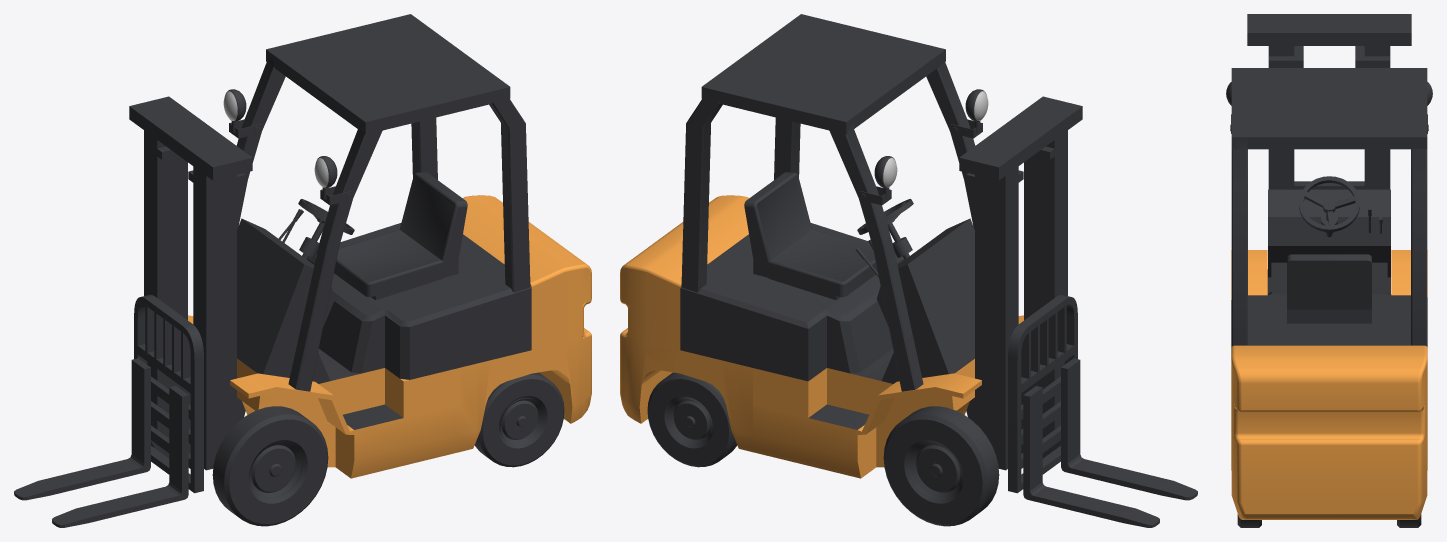
3 renders of one model, left to right at view 1: azimuth 30°, elevation 25°; view 2: azimuth 150°, elevation 25°; view 3: azimuth 270°, elevation 25°, orthographic.
Visible parts, largest first — view 1: Roof, Cube_3_2, Cube_3, Cube_12_2_2, Panel, Tube, Cube_13_2, Cube_4, Cube_12, Tube_2, Cube_6, Sweep (+3 smaller); view 2: Roof, Cube_3_2, Cube_3, Cube_12_2_2, Panel, Tube, Cube_13_2, Cube_4, Cube_12, Tube_2, Cube_6, Sweep (+3 smaller); view 3: Cube_3_2, Roof, Panel, Cube_3, Cube_12, Cube_6, Cube_12_2_2, Tube_3, Cube_4, Cube_13_3, Sweep, Tube_2.
Part boxes in pixels (x1,y1,x2,y2): Roof: (236,14,530,391); Cube_3_2: (188,195,591,478); Cube_3: (307,223,531,379); Cube_12_2_2: (144,130,236,470); Panel: (237,218,334,383); Tube: (151,397,328,526); Cube_13_2: (14,358,188,527); Cube_4: (334,229,458,297); Cube_12: (129,96,252,180); Tube_2: (474,372,564,467); Cube_6: (399,172,467,269); Sweep: (134,294,203,493); Roof: (681,14,975,391); Cube_3_2: (620,195,1023,478); Cube_3: (680,223,904,381); Cube_12_2_2: (975,130,1067,470); Panel: (877,218,974,383); Tube: (883,397,1060,526); Cube_13_2: (1023,358,1197,527); Cube_4: (753,229,877,297); Cube_12: (959,96,1082,180); Tube_2: (647,372,737,467); Cube_6: (744,172,812,269); Sweep: (1008,294,1077,493); Cube_3_2: (1231,250,1427,519); Roof: (1231,68,1427,346); Panel: (1268,189,1390,293); Cube_3: (1231,290,1427,346); Cube_12: (1247,14,1411,45); Cube_6: (1287,254,1371,309); Cube_12_2_2: (1268,46,1390,189); Tube_3: (1299,176,1359,231); Cube_4: (1287,309,1371,323); Cube_13_3: (1269,46,1389,67); Sweep: (1294,181,1364,189); Tube_2: (1237,514,1421,527).
Size of the model in its own units: 705 by 509 by 252.
